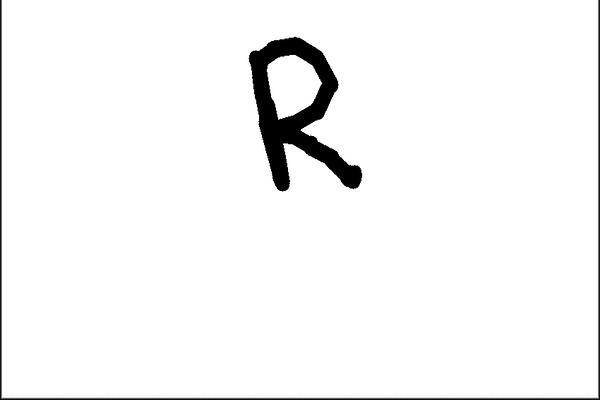R: (244, 26, 379, 199)
